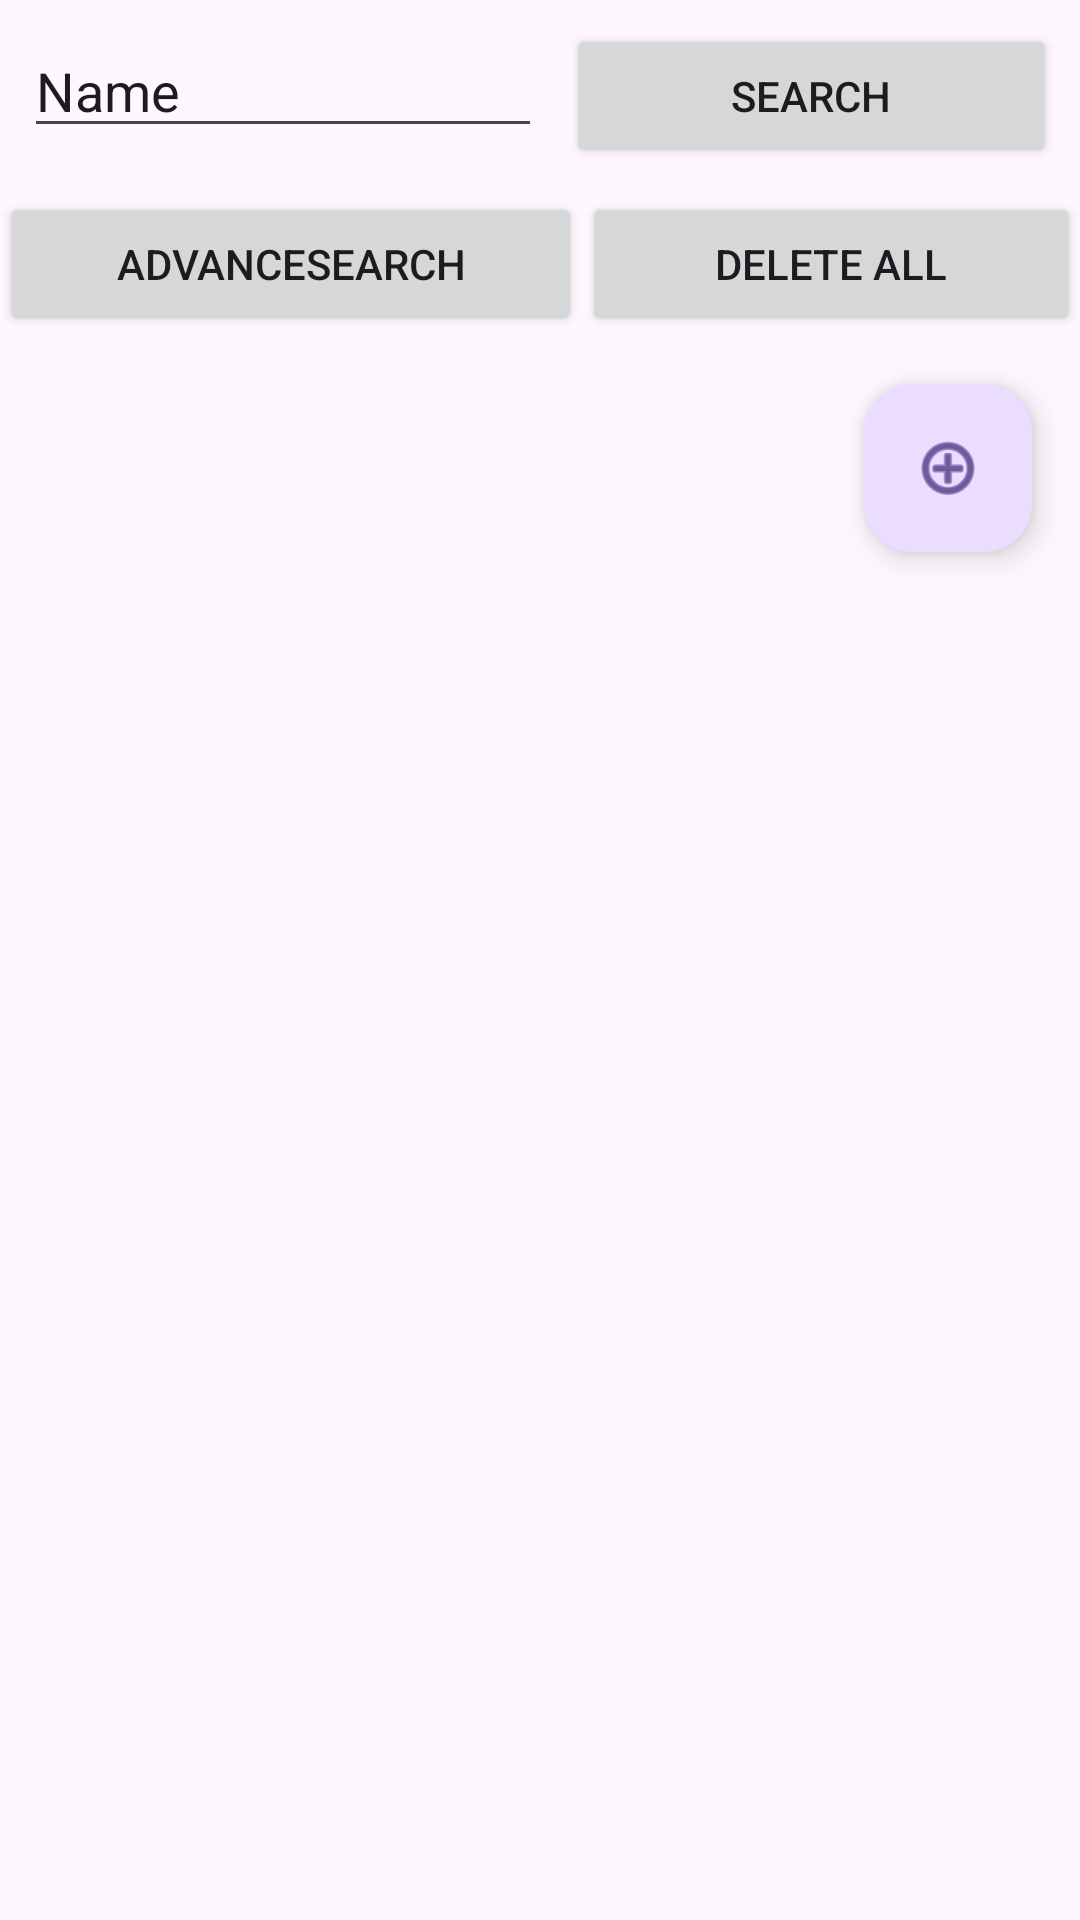

Point at icon controls on the screen. Image size 1080px x 1920px, points as (x,y).
add: (948,468)
